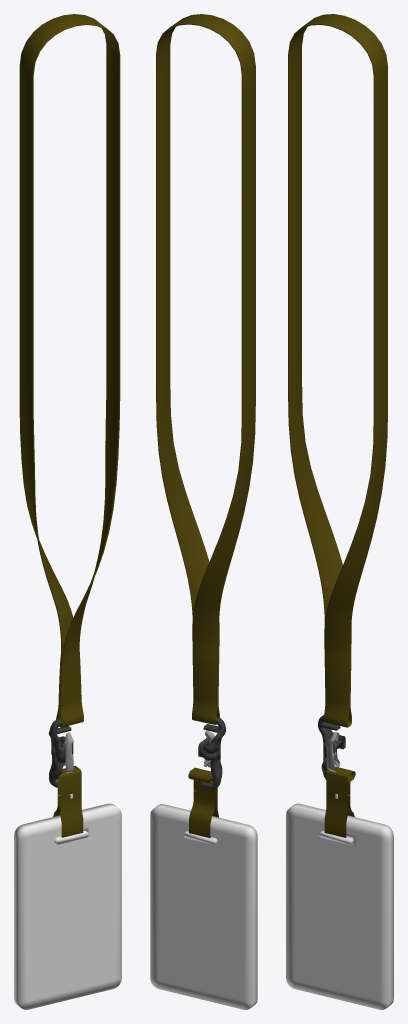
File: idcard.glb
The picture shows the model from 3 angles, left to right: view 1: azimuth 30°, elevation 25°; view 2: azimuth 150°, elevation 25°; view 3: azimuth 330°, elevation 25°; orthographic projection.
Visible parts, largest first — view 1: BézierCurve.001, Cube.001, Cube, Cube.002, Cube.007, Cube.006, Cube.008; view 2: BézierCurve.001, Cube.001, Cube.002, Cube.006, Cube.007; view 3: BézierCurve.001, Cube.001, Cube, Cube.002, Cube.008, Cube.007.
Boxes of the visible parts, x1,y1,x2,y2 form: BézierCurve.001: (19, 14, 120, 727); Cube.001: (14, 803, 121, 1009); Cube: (70, 805, 121, 998); Cube.002: (53, 765, 83, 837); Cube.007: (48, 718, 71, 763); Cube.006: (49, 736, 73, 787); Cube.008: (63, 732, 73, 773); BézierCurve.001: (156, 14, 255, 724); Cube.001: (150, 804, 257, 1009); Cube.002: (188, 767, 218, 838); Cube.006: (198, 738, 222, 789); Cube.007: (203, 717, 225, 760); BézierCurve.001: (288, 14, 387, 727); Cube.001: (286, 803, 393, 1009); Cube: (337, 820, 390, 1009); Cube.002: (324, 766, 355, 837); Cube.008: (327, 732, 340, 772); Cube.007: (318, 715, 340, 758).
Bounding box in the file's own units: 2 × 18.29 × 0.888.
